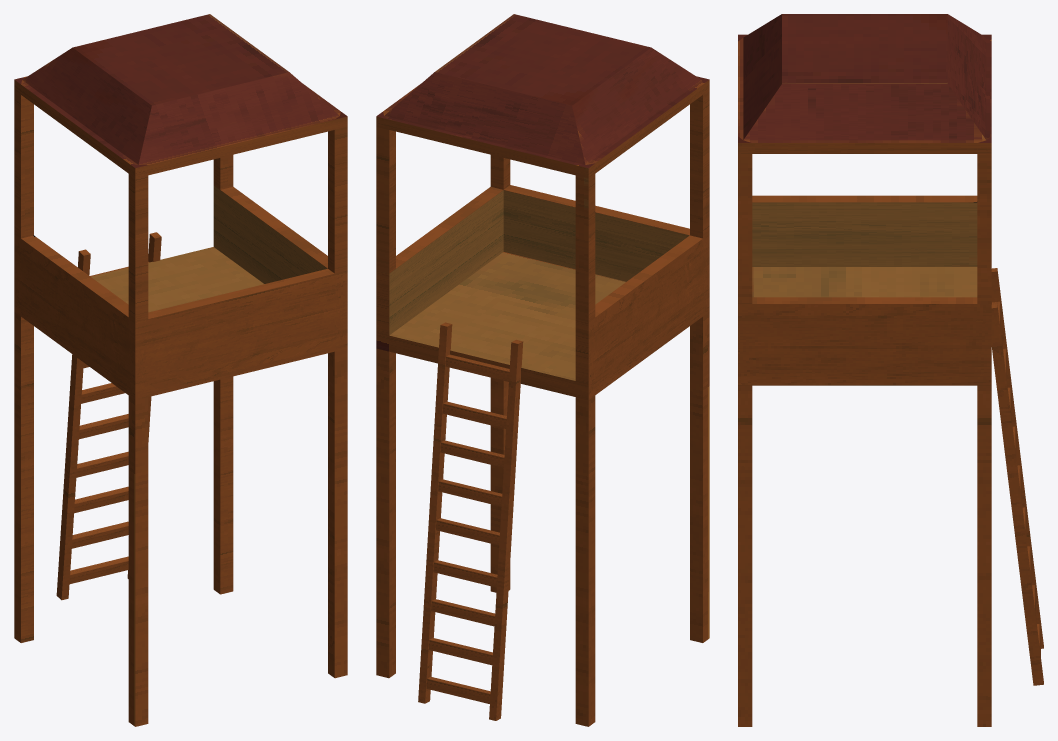
File: sniper-tower.glb
The picture shows the model from 3 angles, left to right: view 1: azimuth 30°, elevation 25°; view 2: azimuth 150°, elevation 25°; view 3: azimuth 270°, elevation 25°; orthographic projection. The views are drawn at different scales.
Parts seen in each view (by area): view 1: Cube, Cube.001; view 2: Cube, Cube.001; view 3: Cube, Cube.001.
Boxes of the visible parts, x1,y1,x2,y2 form: Cube: (14, 14, 347, 726); Cube.001: (56, 232, 161, 600); Cube: (376, 14, 709, 726); Cube.001: (418, 322, 523, 720); Cube: (738, 14, 991, 726); Cube.001: (991, 268, 1043, 685).
Bounding box in the file's own units: 2.28 × 6.12 × 2.72.
Materials: 1 (1 with a texture image).
